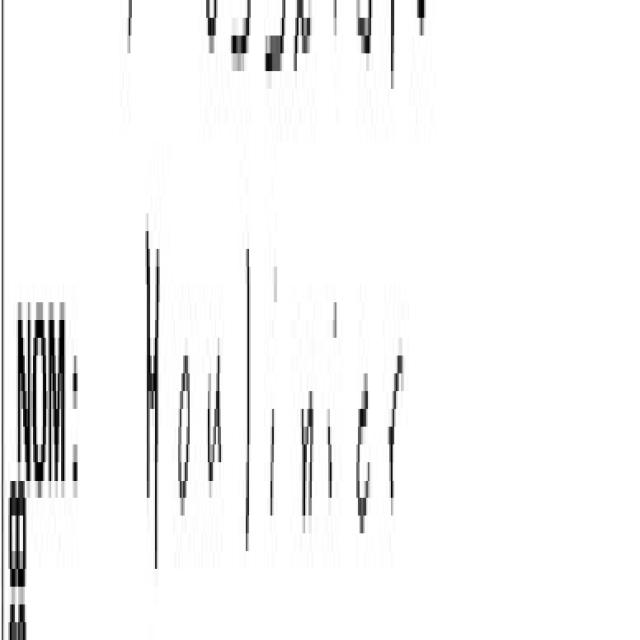E: (352, 218, 375, 640)
H: (138, 162, 167, 619)
I: (262, 246, 287, 607), (325, 321, 345, 582)
L: (239, 218, 257, 601)
N: (296, 284, 319, 626)
O: (173, 209, 198, 640)
R: (383, 200, 412, 640)
U: (204, 200, 227, 640)
